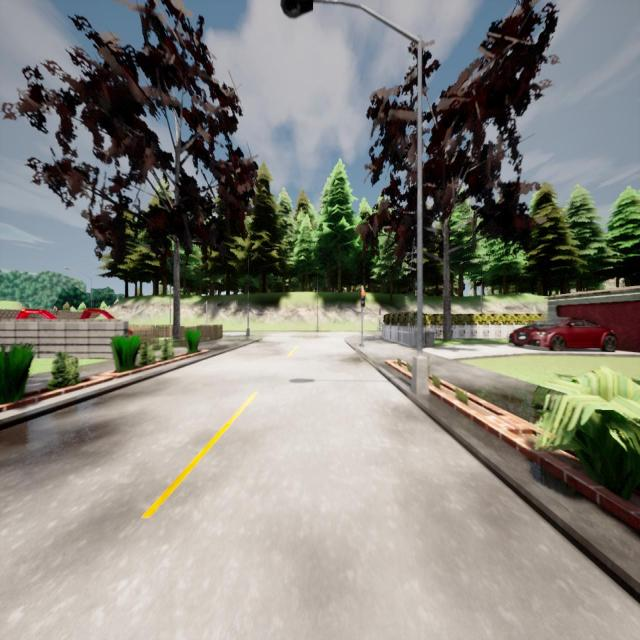Vehicle: (509, 316, 617, 351)
traffic_light: (361, 292, 365, 308), (203, 304, 207, 312), (379, 309, 381, 315)
